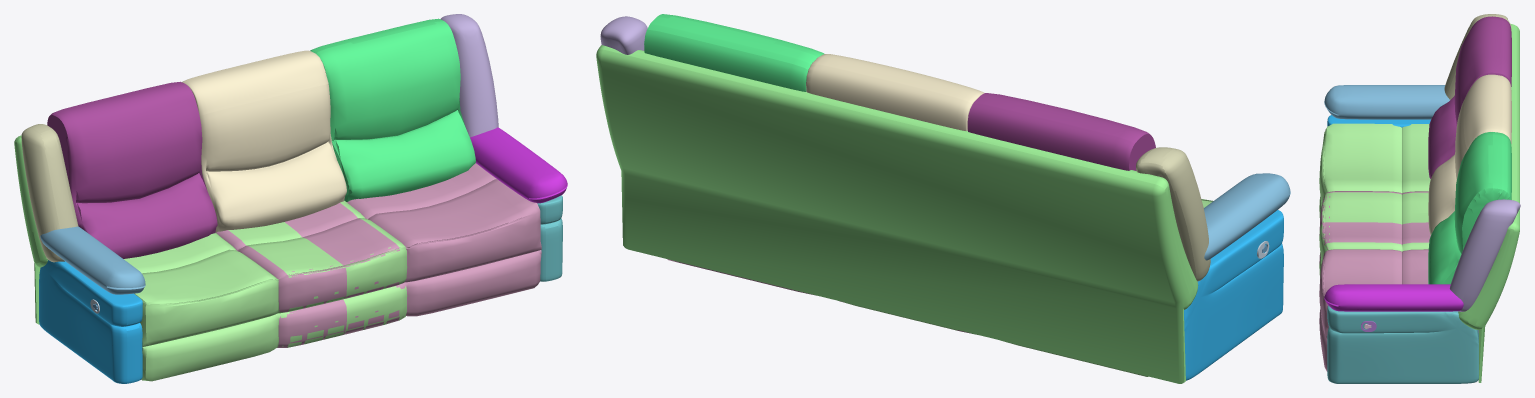
3 views of the same model, side by side, from view 1: azimuth 30°, elevation 25°; view 2: azimuth 150°, elevation 25°; view 3: azimuth 270°, elevation 25° (orthographic). The views are drawn at different scales.
Visible parts, largest first — view 1: split_parent_8, split_parent_1, Object_15, split_parent_4, split_parent_2, split_parent_6, split_parent_7, Object_38, Object_44, Object_22, split_parent_11, split_parent_9; view 2: split_parent_9, split_parent_6, Object_15, split_parent_4, split_parent_2, split_parent_7, Object_22, Object_44; view 3: split_parent_1, split_parent_11, split_parent_8, split_parent_4, Object_15, split_parent_2, Object_22, split_parent_9, Object_38, Object_44, split_parent_6, split_parent_7.
Part boxes in pixels (<box>): split_parent_8: <box>216,163,541,347</box>; split_parent_1: <box>124,200,407,381</box>; Object_15: <box>47,81,217,258</box>; split_parent_4: <box>310,18,475,201</box>; split_parent_2: <box>182,50,346,232</box>; split_parent_6: <box>39,260,142,383</box>; split_parent_7: <box>21,124,78,262</box>; Object_38: <box>470,127,567,203</box>; Object_44: <box>440,14,498,137</box>; Object_22: <box>40,226,145,294</box>; split_parent_11: <box>537,195,562,281</box>; split_parent_9: <box>14,135,48,324</box>; split_parent_9: <box>596,45,1198,383</box>; split_parent_6: <box>1184,210,1283,380</box>; Object_15: <box>967,93,1155,170</box>; split_parent_4: <box>644,14,824,91</box>; split_parent_2: <box>806,54,984,131</box>; split_parent_7: <box>1136,147,1210,281</box>; Object_22: <box>1204,173,1290,260</box>; Object_44: <box>600,16,647,54</box>; split_parent_1: <box>1319,123,1430,278</box>; split_parent_11: <box>1327,305,1478,383</box>; split_parent_8: <box>1319,191,1478,371</box>; split_parent_4: <box>1428,132,1511,284</box>; Object_15: <box>1428,16,1511,178</box>; split_parent_2: <box>1428,74,1511,235</box>; Object_22: <box>1324,85,1449,119</box>; split_parent_9: <box>1458,24,1519,382</box>; Object_38: <box>1324,284,1463,311</box>; Object_44: <box>1449,199,1520,311</box>; split_parent_6: <box>1327,115,1430,127</box>; split_parent_7: <box>1444,14,1511,99</box>.
Bounding box in the file's own units: 1 × 0.4203 × 0.4103.
